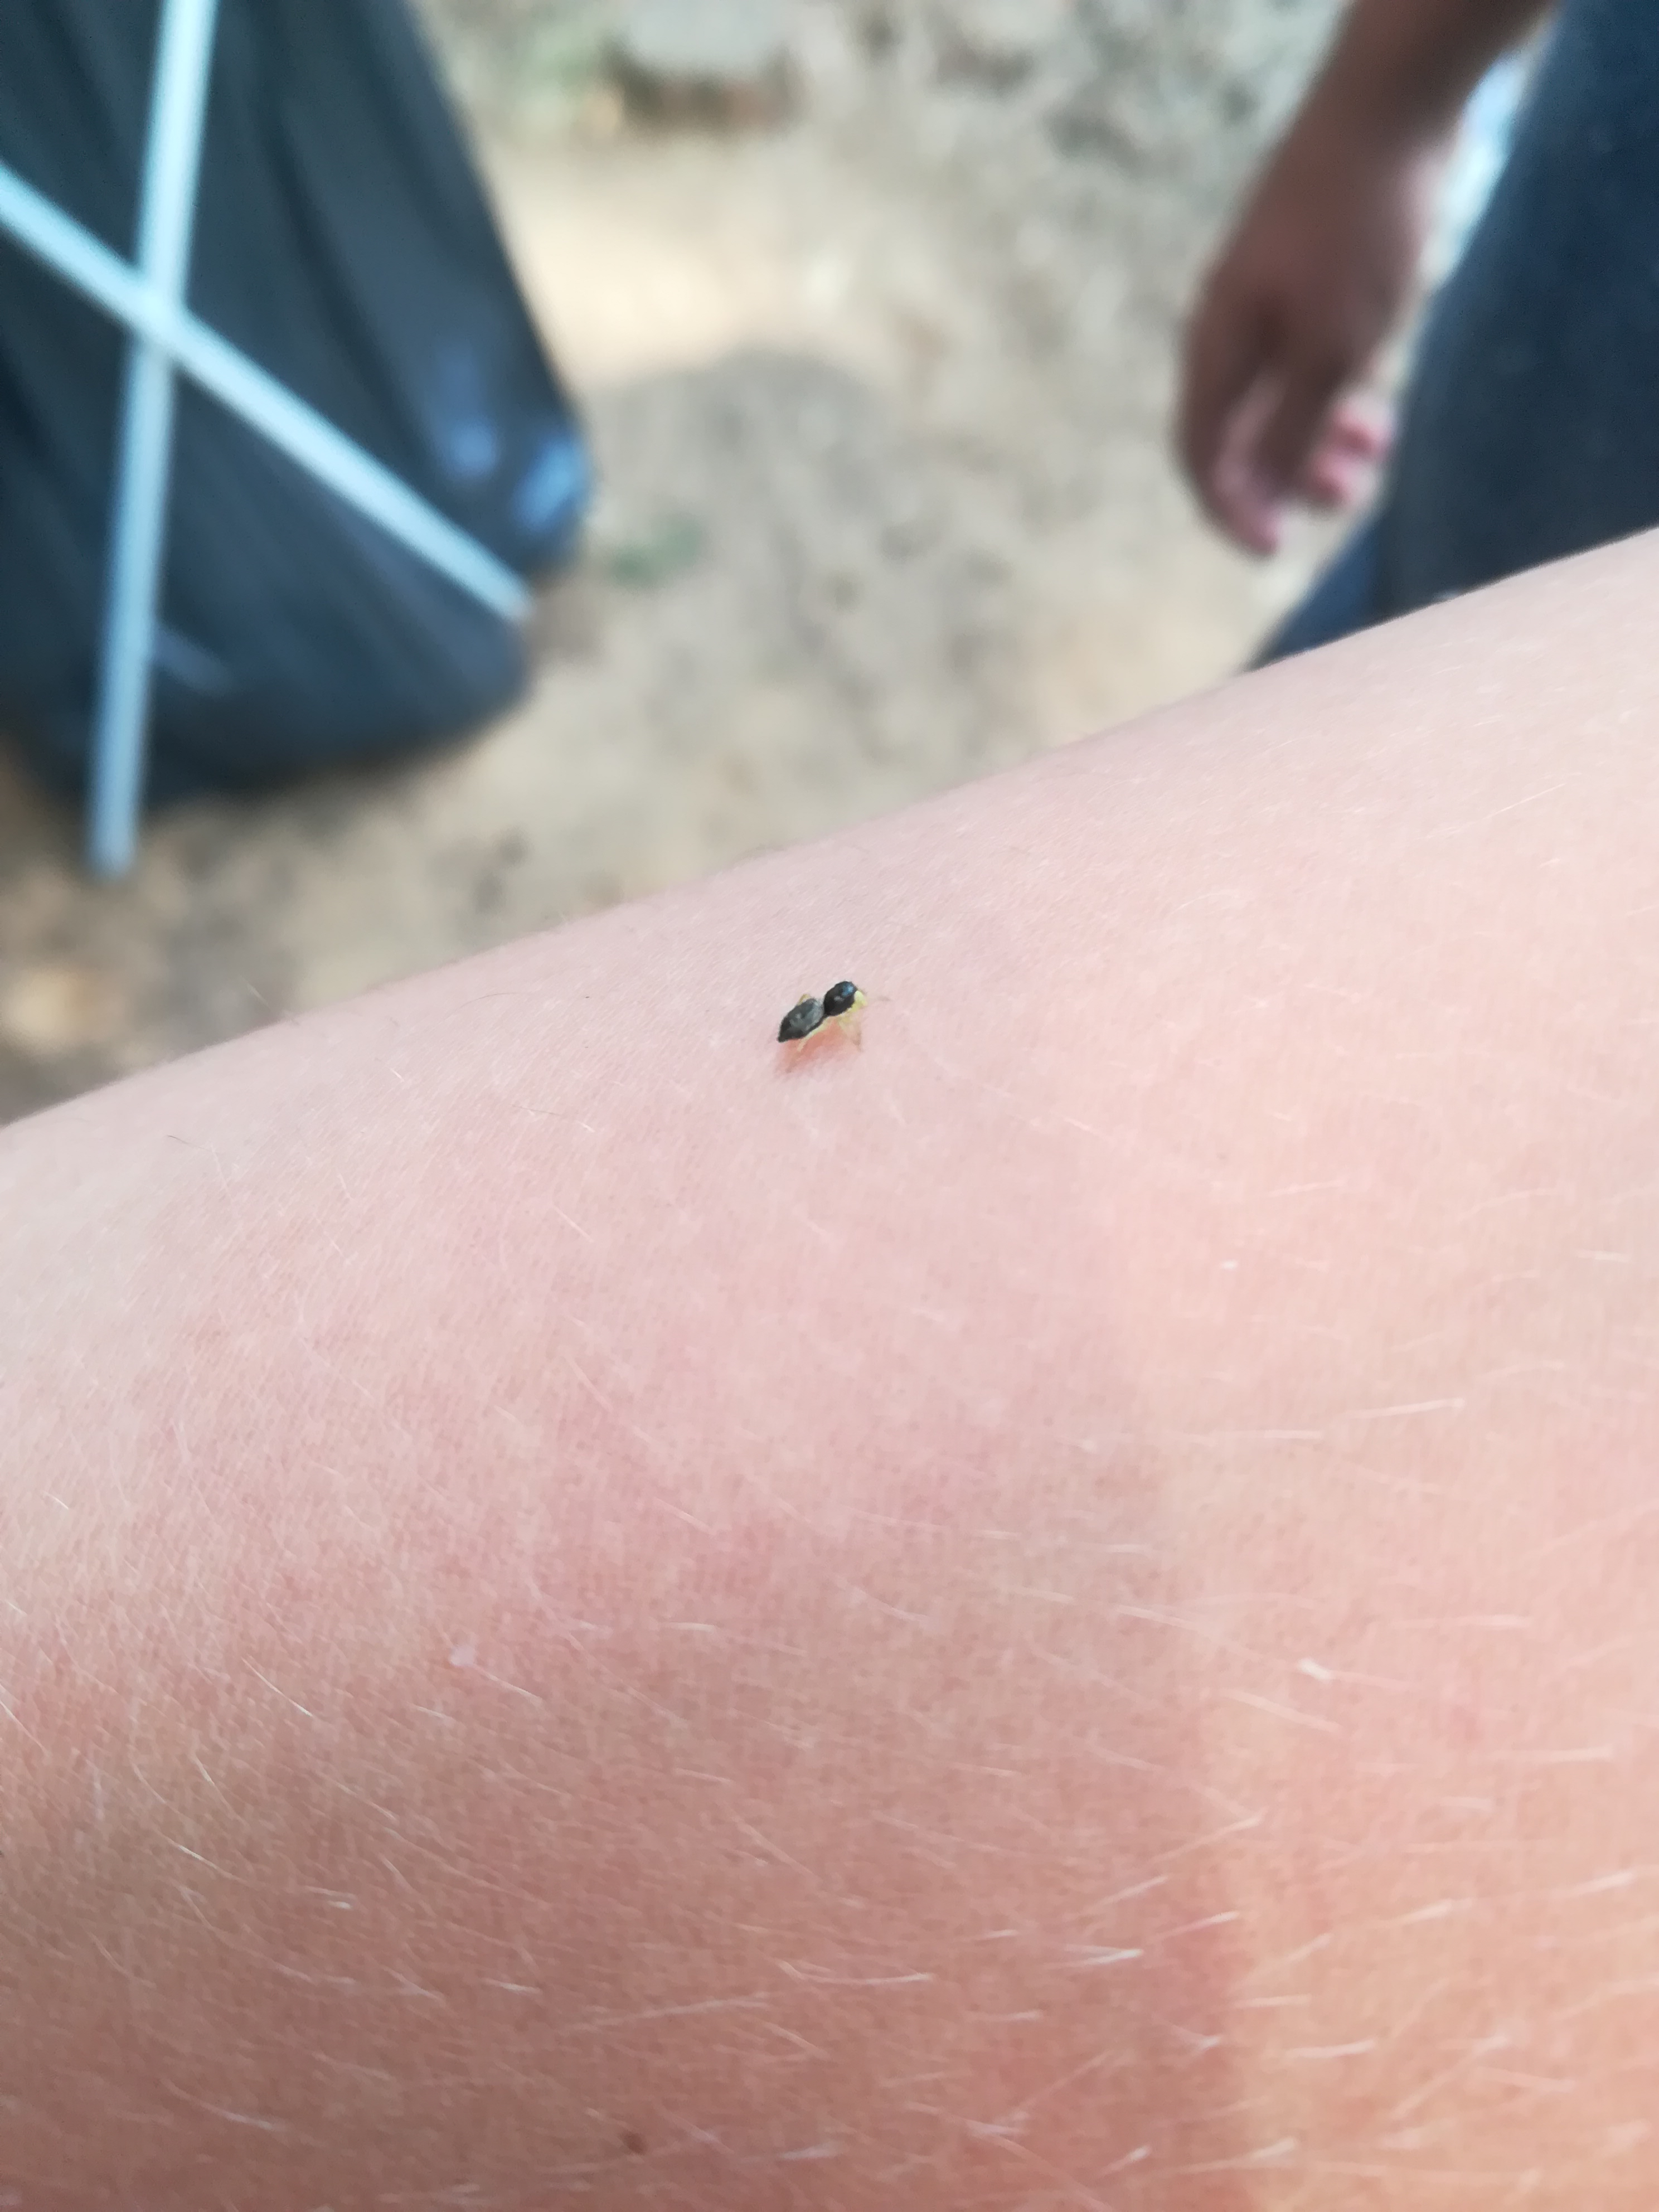spider: (753, 939, 887, 1085)
